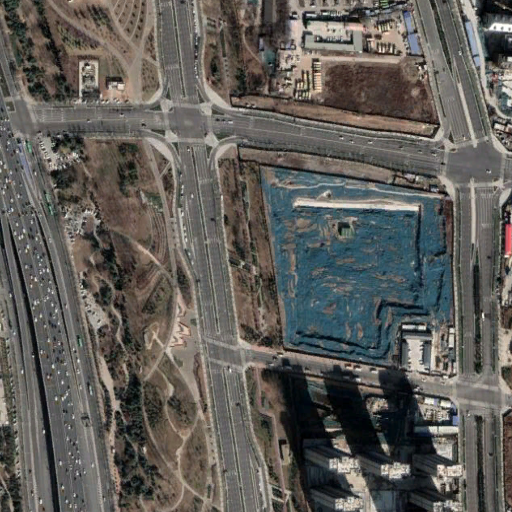cw: (260, 165, 456, 373)
